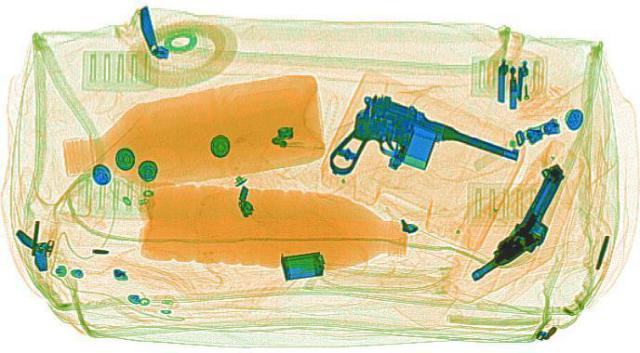Gun: (278, 89, 530, 210), (467, 165, 588, 284)
